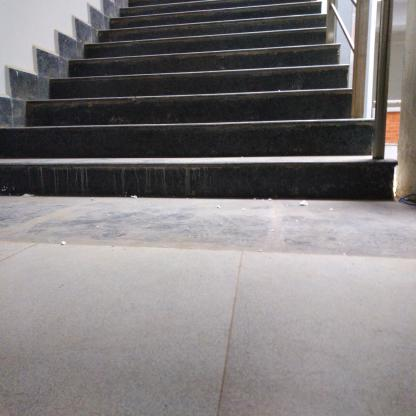stairs: (111, 10, 326, 211)
